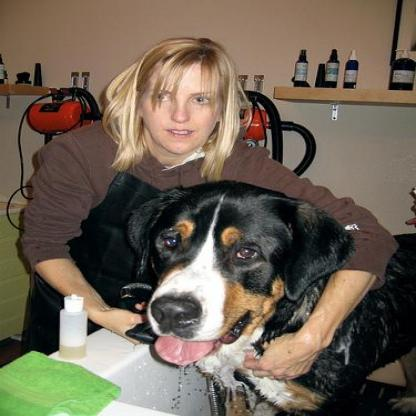Greater_Swiss_Mountain_dog: (121, 177, 413, 414)
